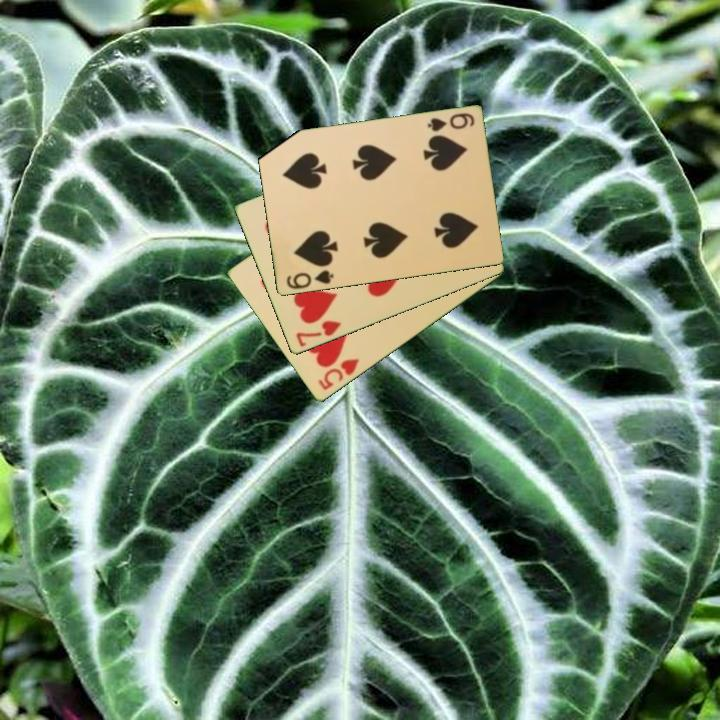5h: (314, 355, 362, 394)
6s: (283, 267, 336, 292), (424, 110, 477, 135)
7h: (292, 317, 344, 350)
